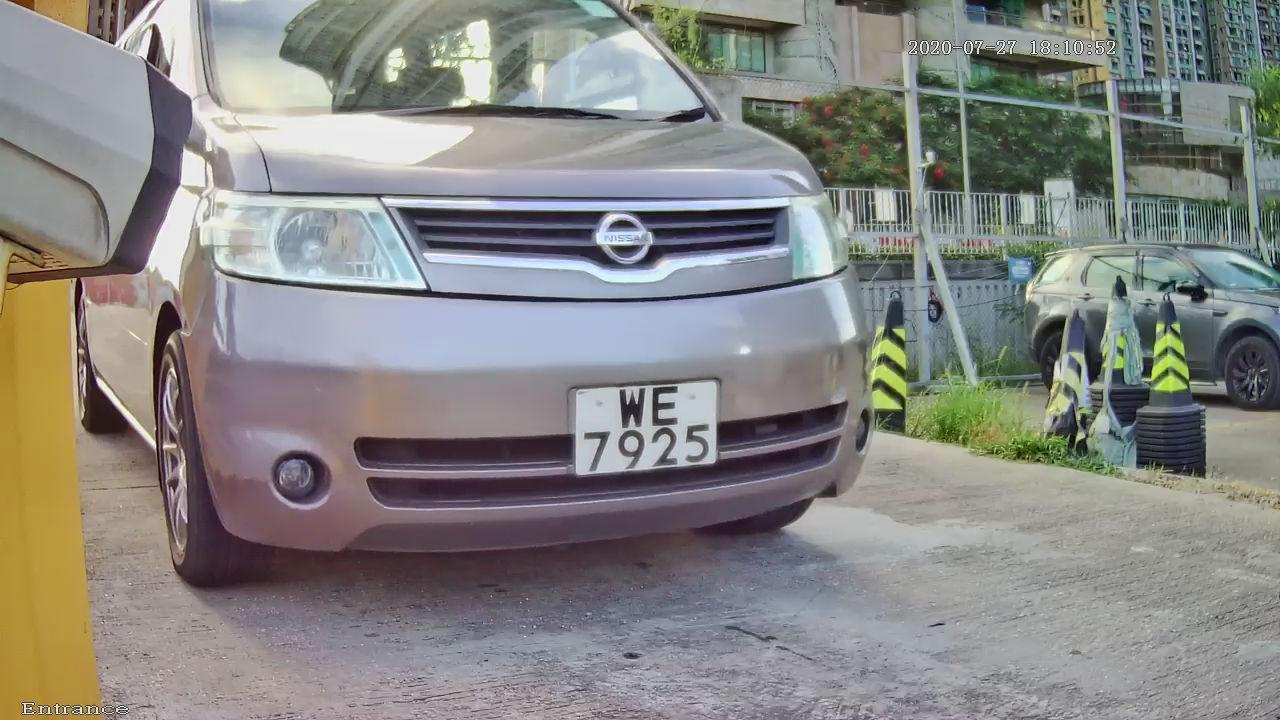privatecar: (75, 13, 966, 582)
